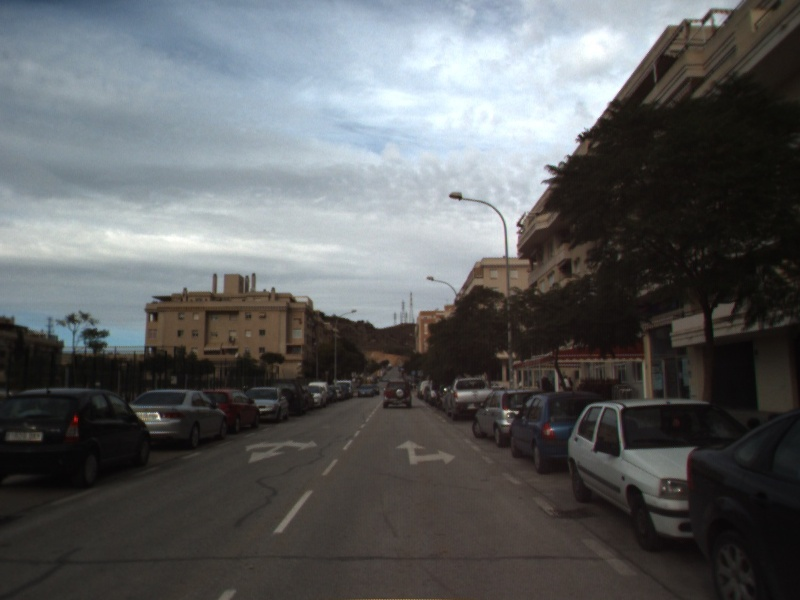STRAIGHT_RIGHT: (394, 438, 457, 467)
